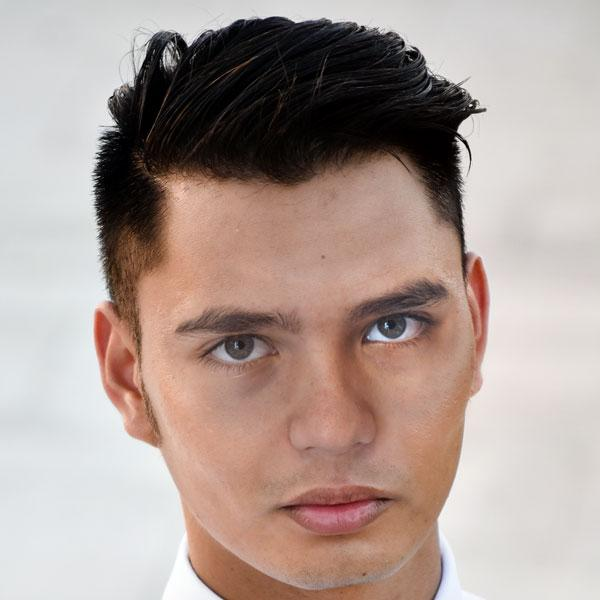Eyes: (351, 296, 445, 372), (186, 323, 294, 380)
